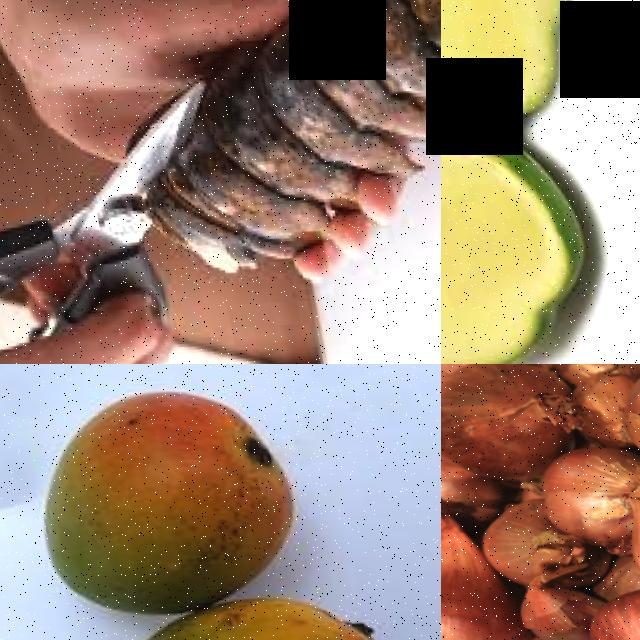lobster tails: (254, 0, 441, 181)
mango: (6, 367, 305, 624), (441, 119, 605, 364), (68, 575, 437, 640)
onion: (441, 364, 561, 485), (525, 440, 640, 540), (441, 561, 522, 640), (568, 585, 640, 640), (614, 504, 640, 599)
